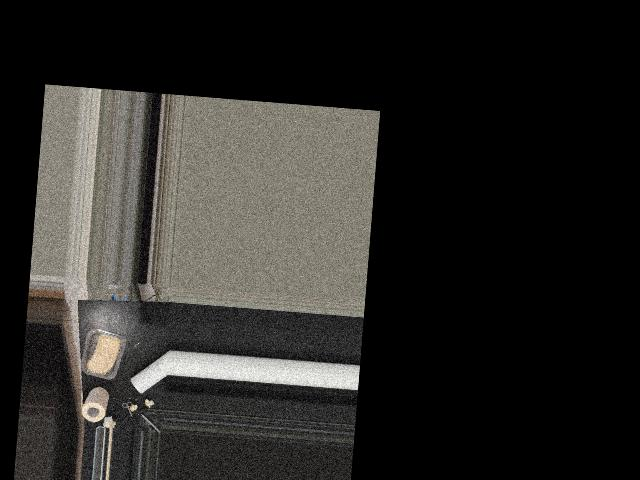cheese: (83, 327, 125, 380)
